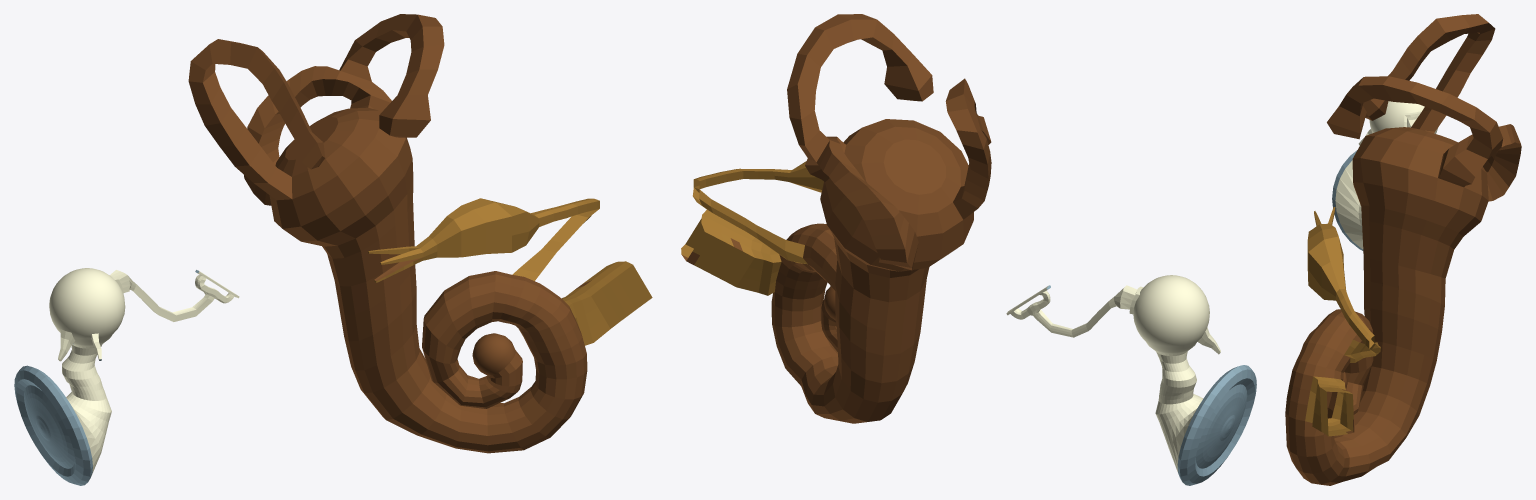
File: whateva.FBX
3 renders of one model, left to right at view 1: azimuth 30°, elevation 25°; view 2: azimuth 150°, elevation 25°; view 3: azimuth 270°, elevation 25°, orthographic. The views are drawn at different scales.
Visible parts, largest first — view 1: Nerve, Drum; view 2: Nerve, Drum; view 3: Nerve, Drum.
Part boxes in pixels (x1,y1,x2,y2): Nerve: (188, 14, 652, 453); Drum: (14, 268, 239, 485); Nerve: (681, 14, 991, 423); Drum: (1006, 275, 1256, 485); Nerve: (1285, 14, 1521, 485); Drum: (1332, 101, 1438, 250).
Size of the model in its own units: 792405 by 539035 by 301710.
Materials: 4 (4 with a texture image).
